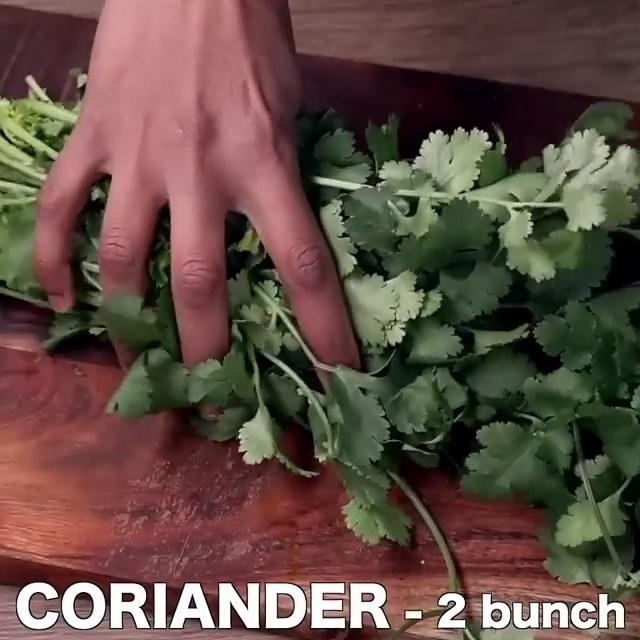cilantro: (370, 136, 640, 563)
